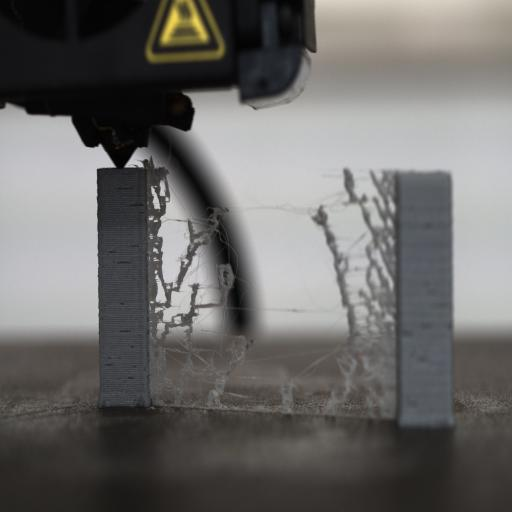stringing: (114, 153, 256, 404)
